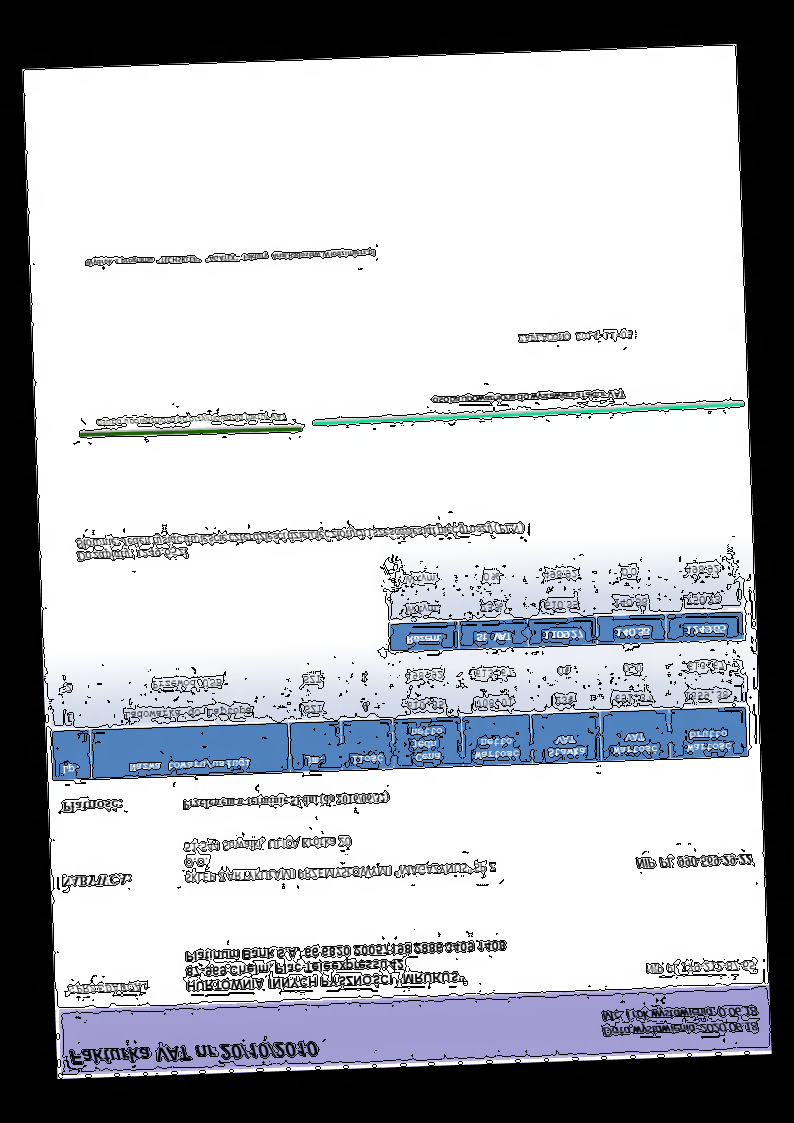Table: (47, 643, 749, 783), (385, 548, 745, 654)
TextBox: (73, 519, 527, 565), (183, 935, 510, 996), (183, 829, 496, 885), (66, 1037, 320, 1068), (83, 246, 379, 270), (598, 1004, 764, 1040), (180, 790, 390, 813), (428, 387, 626, 408), (94, 409, 289, 430), (634, 851, 753, 872), (642, 957, 755, 978), (516, 329, 634, 345), (63, 980, 150, 998), (59, 872, 133, 890), (61, 798, 124, 816)
